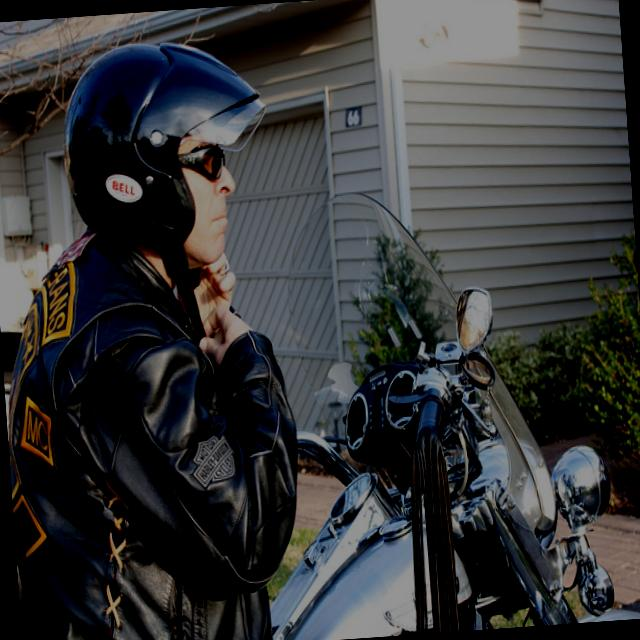Vehicle: (246, 279, 640, 640), (0, 327, 32, 465)
